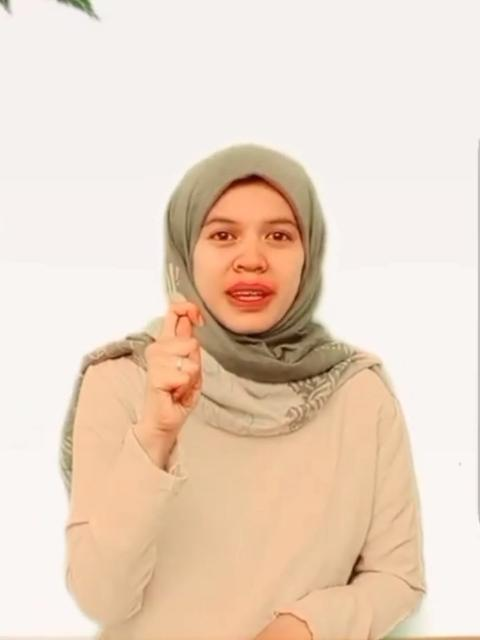T: (139, 292, 207, 440)
